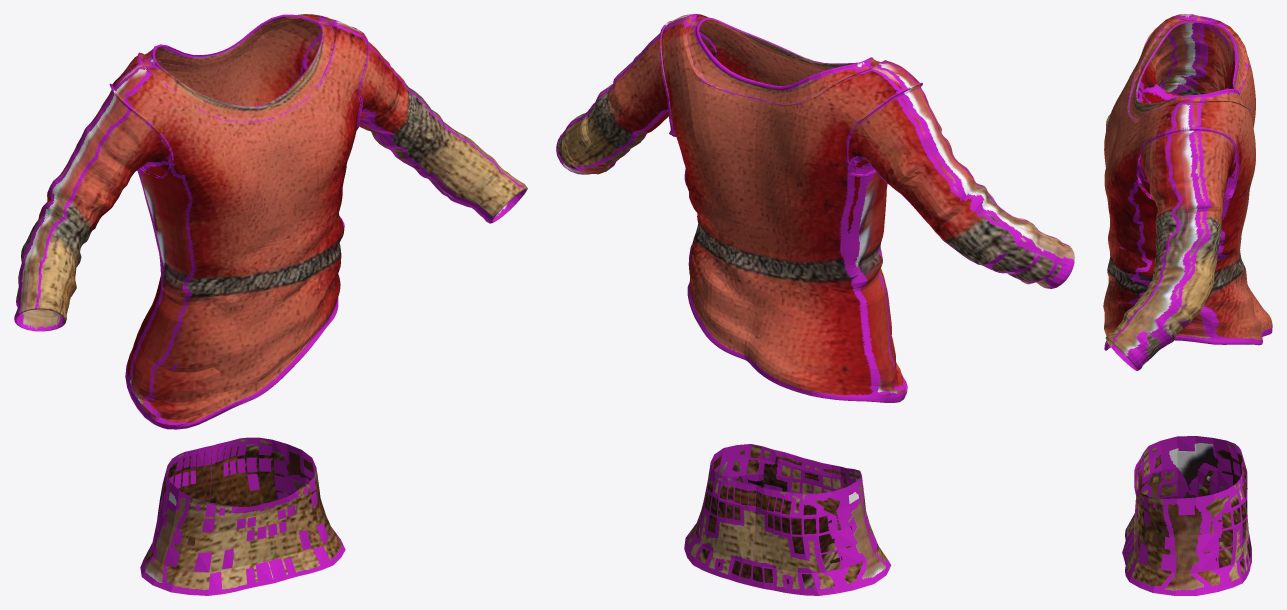
3 renders of one model, left to right at view 1: azimuth 30°, elevation 25°; view 2: azimuth 150°, elevation 25°; view 3: azimuth 270°, elevation 25°, orthographic. The views are drawn at different scales.
Size of the model in its own units: 0.8626 by 0.8388 by 0.2582.
Materials: 1 (1 with a texture image).
